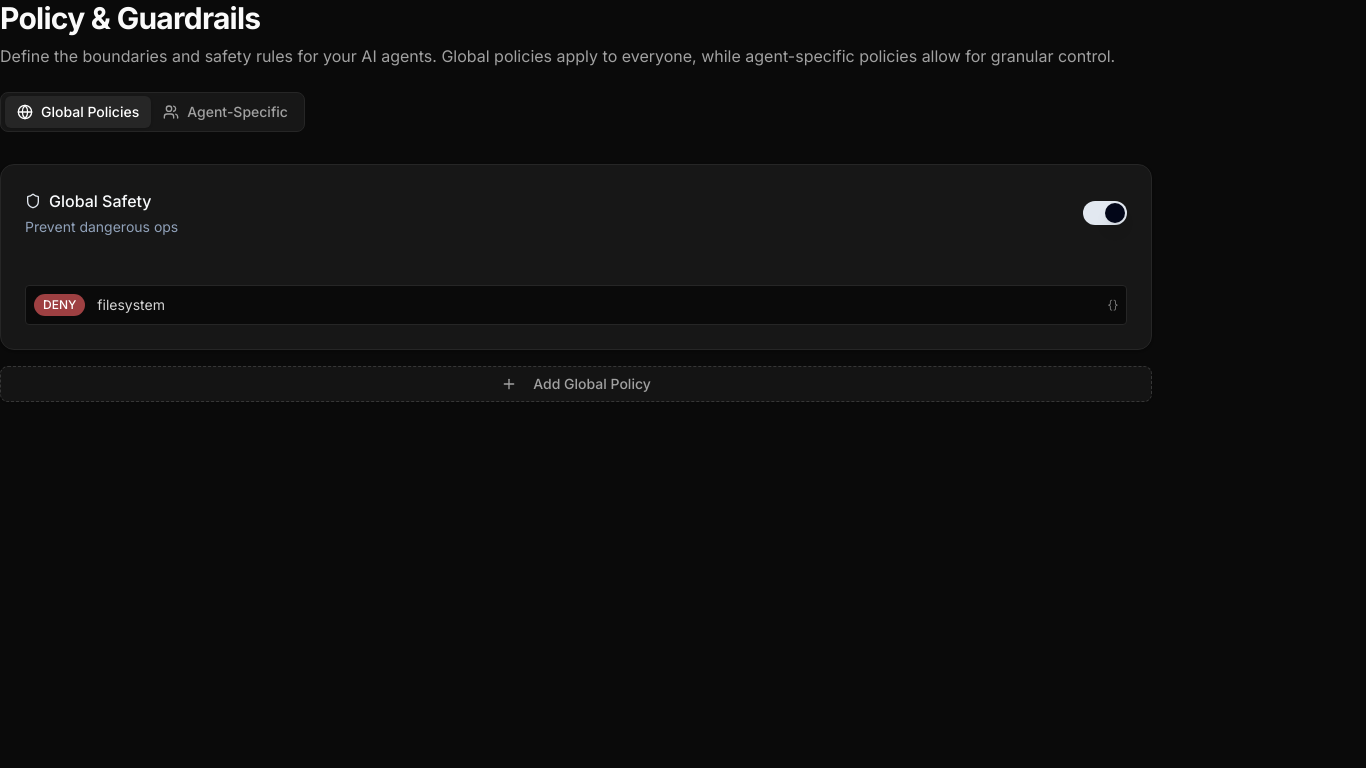
PolicyPage › Interactions › should open Add Global Policy dialog
Click the button "Add Global Policy": (576, 384) [0,366,1152,402]
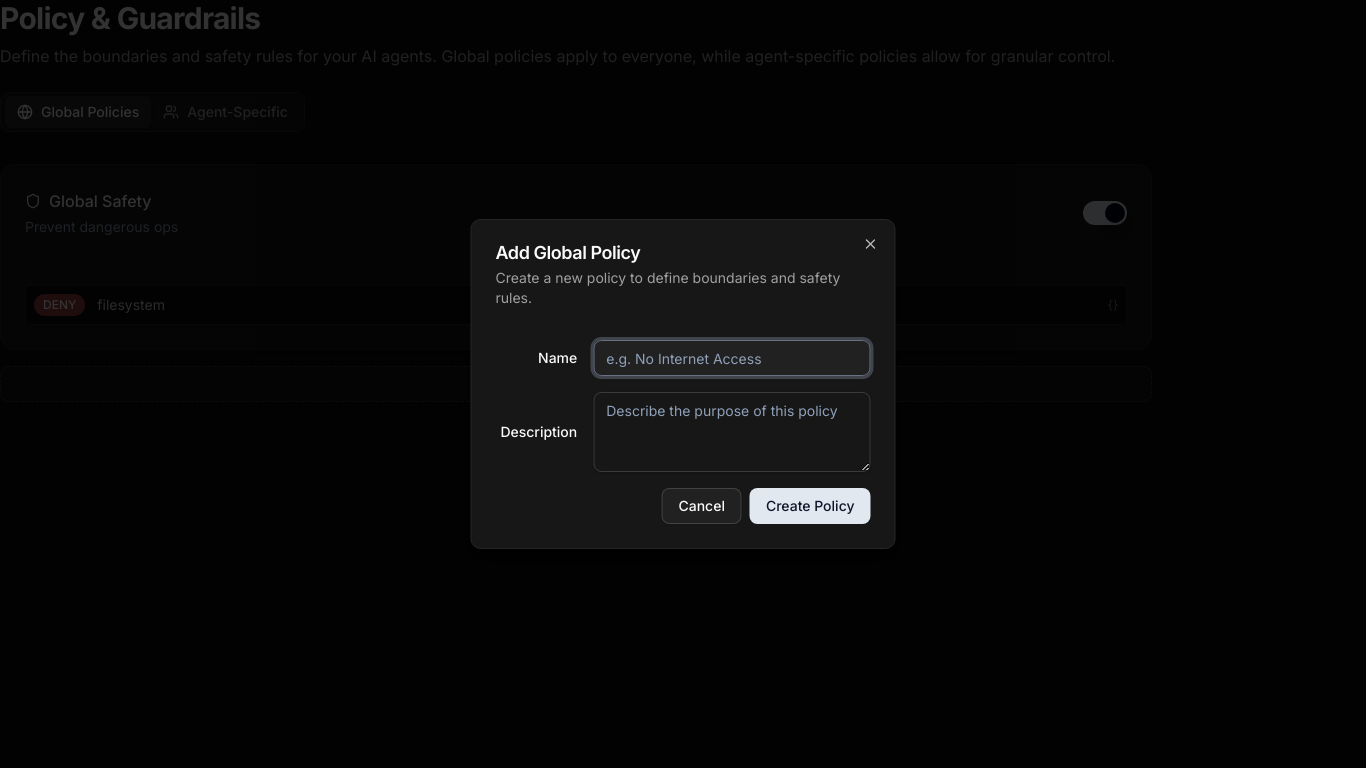
Now the dialog is shown, box [470,219,896,549]
Now the heading "Add Global Policy" is shown, box [496,242,640,263]
Now the text "Create a new policy to define boundaries and safety rules." is shown, box [496,268,870,308]
